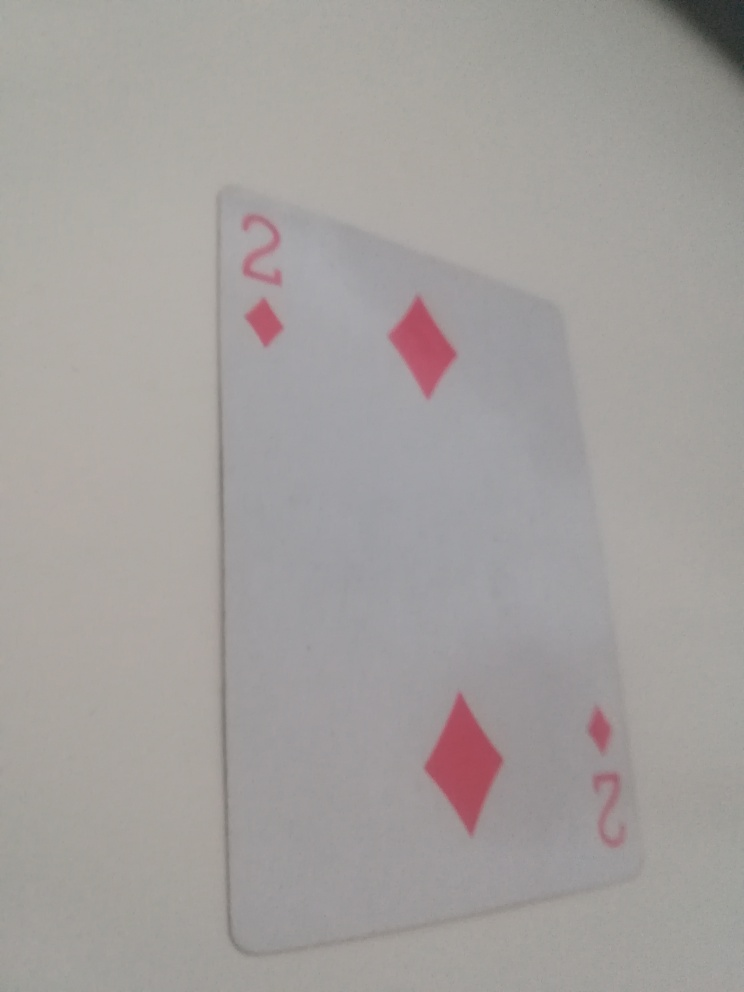2D: (231, 206, 296, 361)
